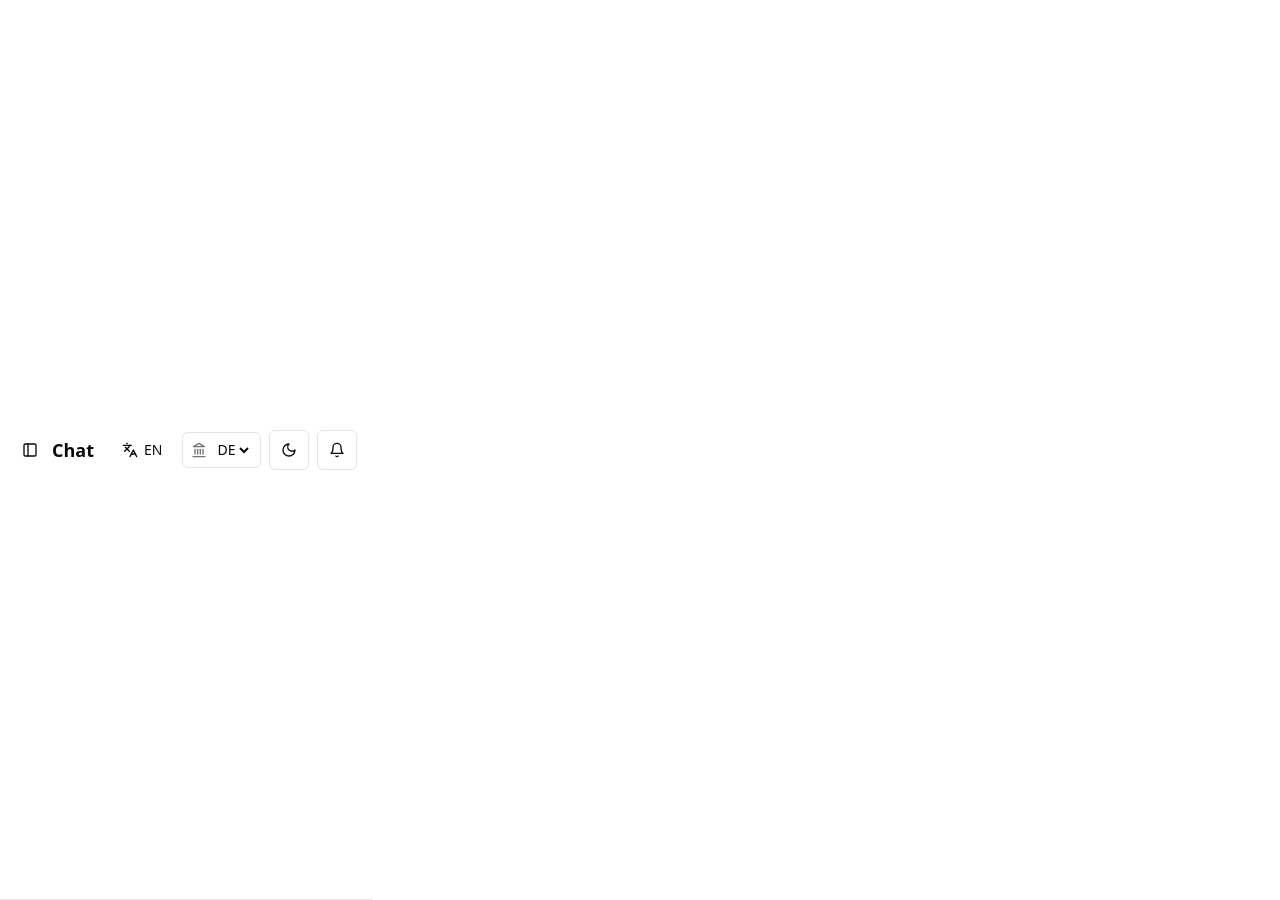
Test: PageHeader › shows the empty-notifications message when there are none
Click the button named "Benachrichtigungen".
click(337, 450)  # box left=317, top=430, right=357, bottom=470
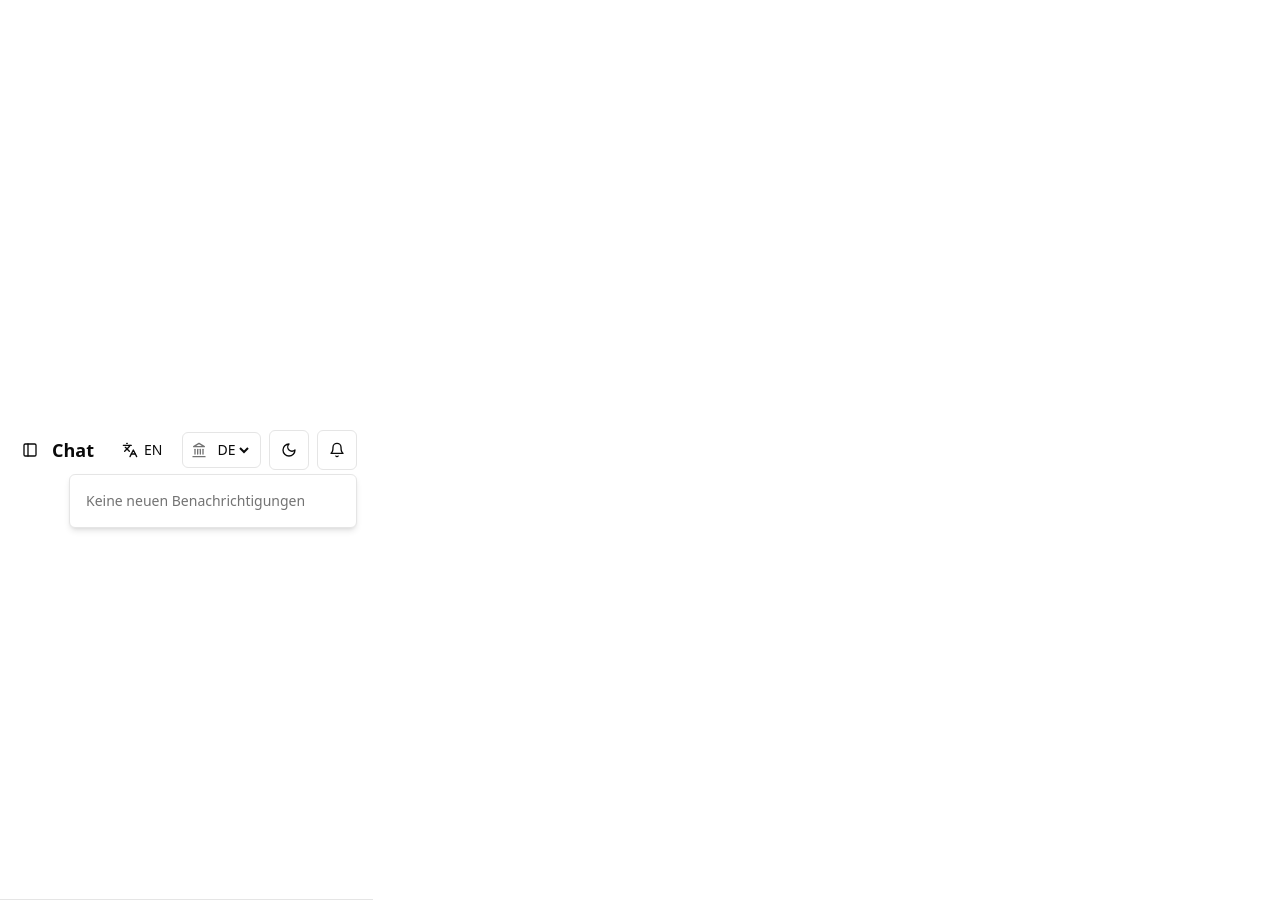
Expected: the text "Keine neuen Benachrichtigungen" is shown, left=86, top=491, right=340, bottom=511
